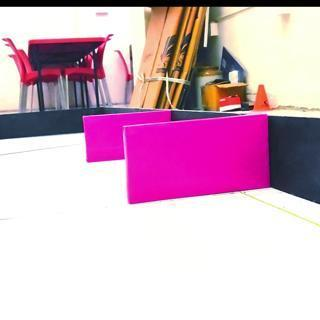xparking: (126, 128, 270, 198), (84, 114, 123, 161)
